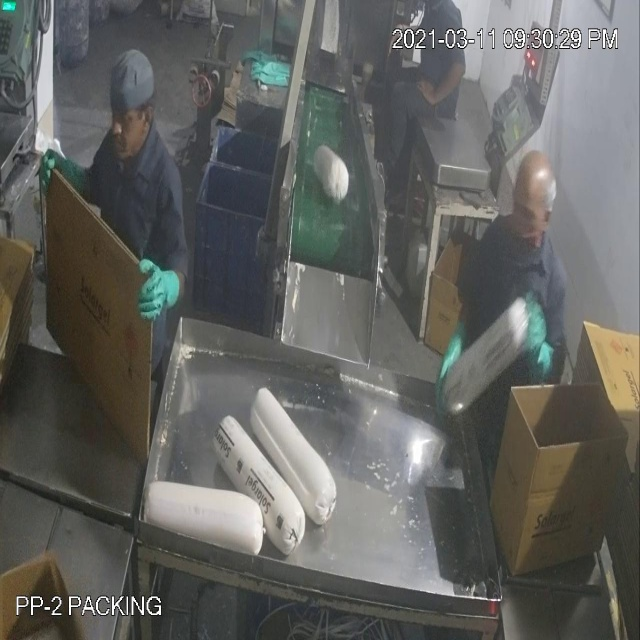Guantes: (129, 243, 185, 334)
Sin_guantes: (418, 54, 470, 113)
